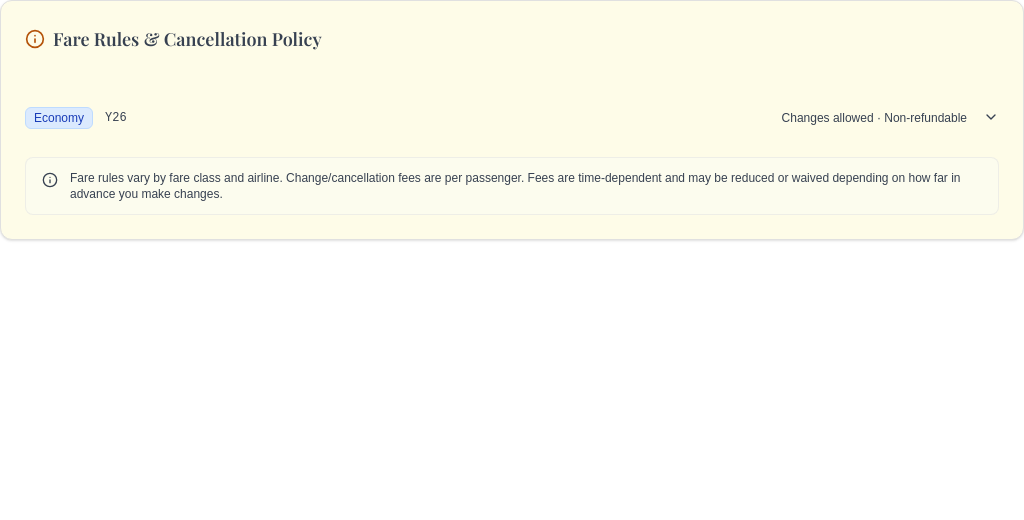
Test: FareRulesSummary cancellation policy explainer › explains non-refundable fares, cancellation fees, and no-show penalties
The width and height of the screenshot is (1024, 520).
Click the button "Economy Y26 Changes allowed · Non-refundable". click: [59, 118]
box: top-left (25, 95), bottom-right (999, 141)
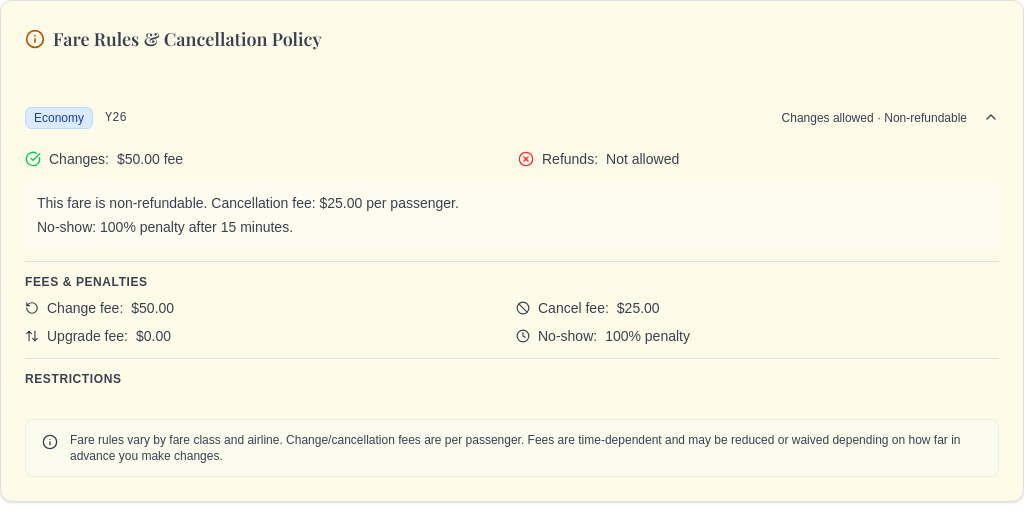
Result: the element with test id "cancellation-policy-explainer" shows "This fare is non-refundable." at top-left (37, 195), bottom-right (207, 211)
Result: the element with test id "cancellation-policy-explainer" shows "Cancellation fee: $25.00 per passenger." at top-left (25, 181), bottom-right (999, 249)
Result: the element with test id "cancellation-policy-explainer" shows "No-show: 100% penalty after 15 minutes." at top-left (25, 181), bottom-right (999, 249)
